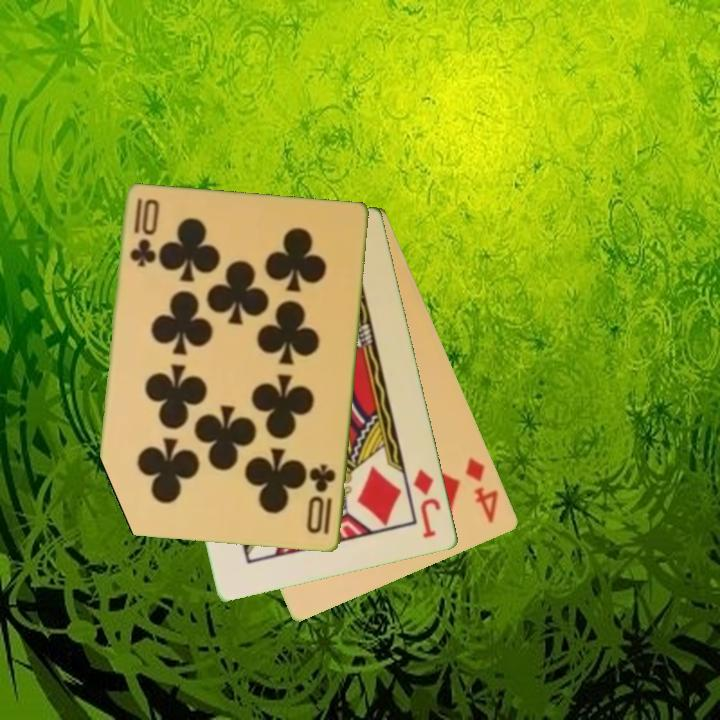10c: (303, 461, 339, 538), (127, 195, 156, 270)
4d: (462, 454, 502, 526)
Jd: (410, 466, 444, 542)
